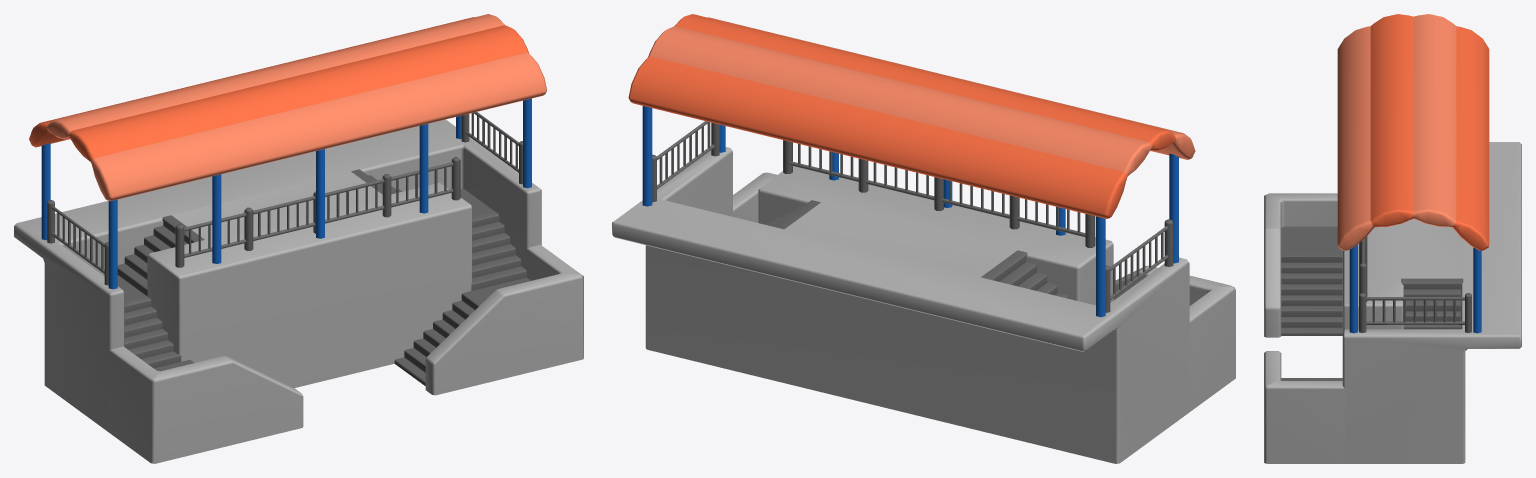
The model's file is attraction_entrance_001.gltf.
The picture shows the model from 3 angles, left to right: view 1: azimuth 30°, elevation 25°; view 2: azimuth 150°, elevation 25°; view 3: azimuth 270°, elevation 25°; orthographic projection. The views are drawn at different scales.
Visible parts, largest first — view 1: attraction_entrance_001; view 2: attraction_entrance_001; view 3: attraction_entrance_001.
Part boxes in pixels (x1=…): attraction_entrance_001: x1=14, y1=14, x2=583, y2=463; attraction_entrance_001: x1=612, y1=14, x2=1235, y2=463; attraction_entrance_001: x1=1264, y1=14, x2=1521, y2=463.
Bounding box in the file's own units: 12.73 × 7.67 × 7.02.
1 material, 1 textured.
